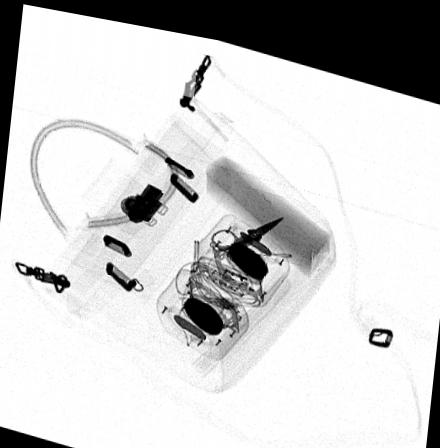Scissors: (210, 204, 283, 260)
